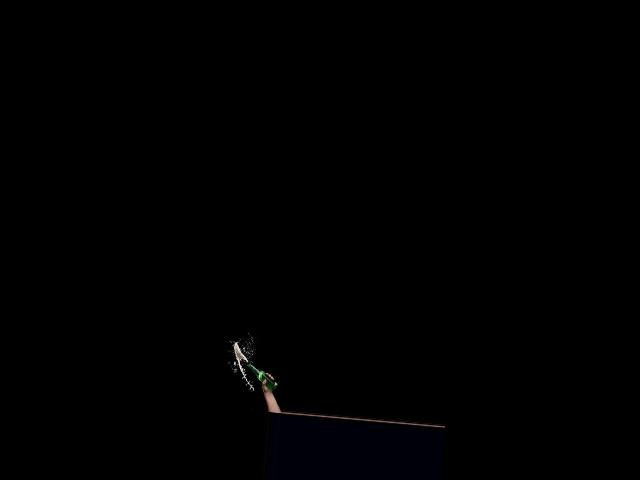beer: (246, 362, 280, 390)
